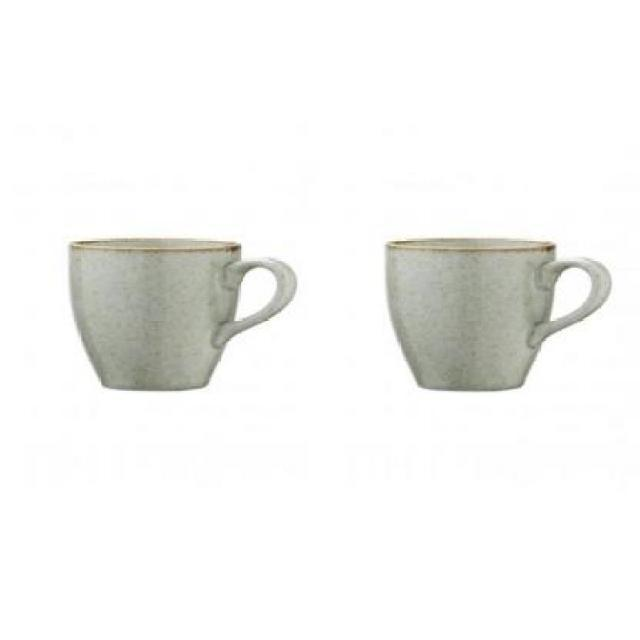taza: (66, 235, 299, 392), (382, 235, 612, 394)
